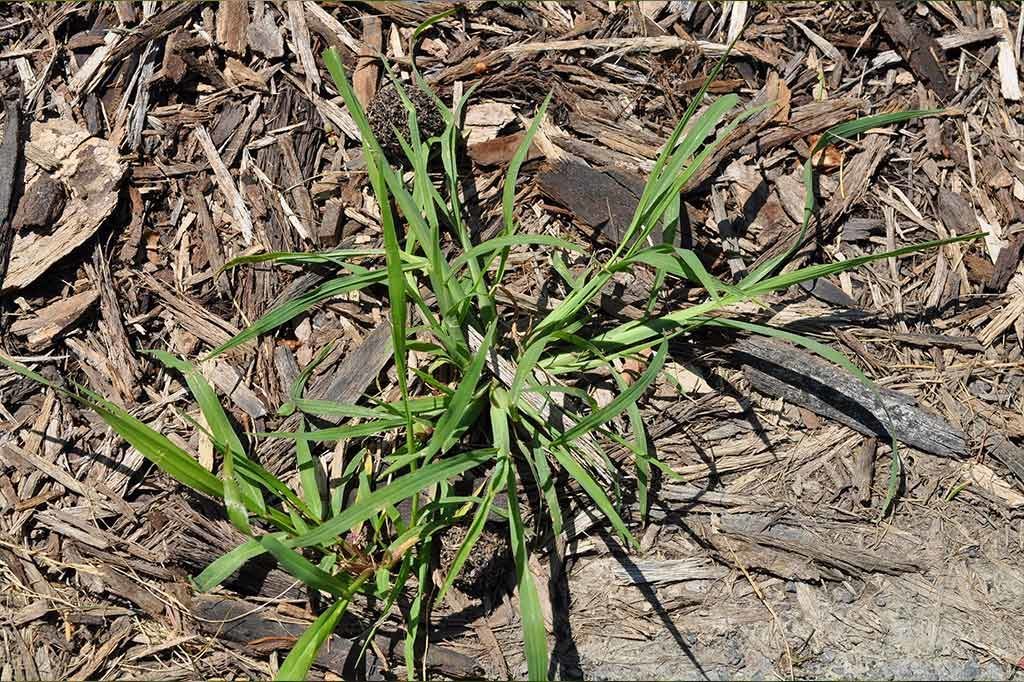crabgrass: (181, 223, 812, 643)
